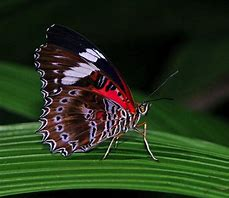insect: (32, 24, 162, 161)
